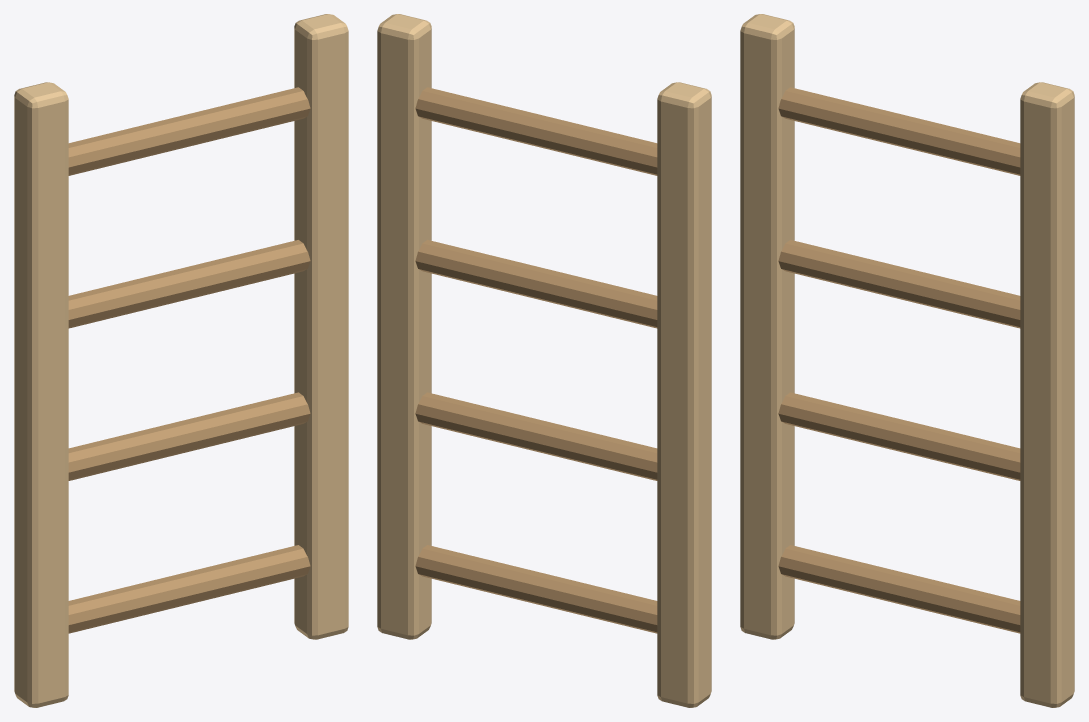
Rendered from ladder.glb.
3 renders of one model, left to right at view 1: azimuth 30°, elevation 25°; view 2: azimuth 150°, elevation 25°; view 3: azimuth 330°, elevation 25°, orthographic.
Parts seen in each view (by area): view 1: Ladder; view 2: Ladder; view 3: Ladder.
Boxes of the visible parts, x1=… form: Ladder: x1=14, y1=14, x2=348, y2=707; Ladder: x1=377, y1=14, x2=711, y2=707; Ladder: x1=740, y1=14, x2=1074, y2=707.
Bounding box in the file's own units: 0.55 × 1 × 0.06.
